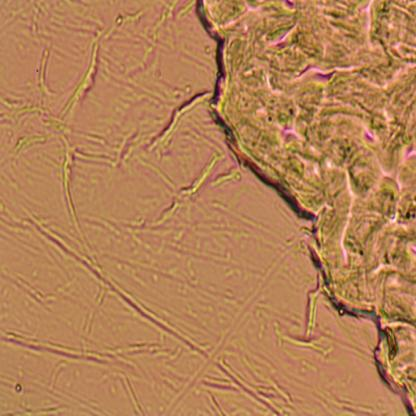Normal: (192, 0, 416, 397)
